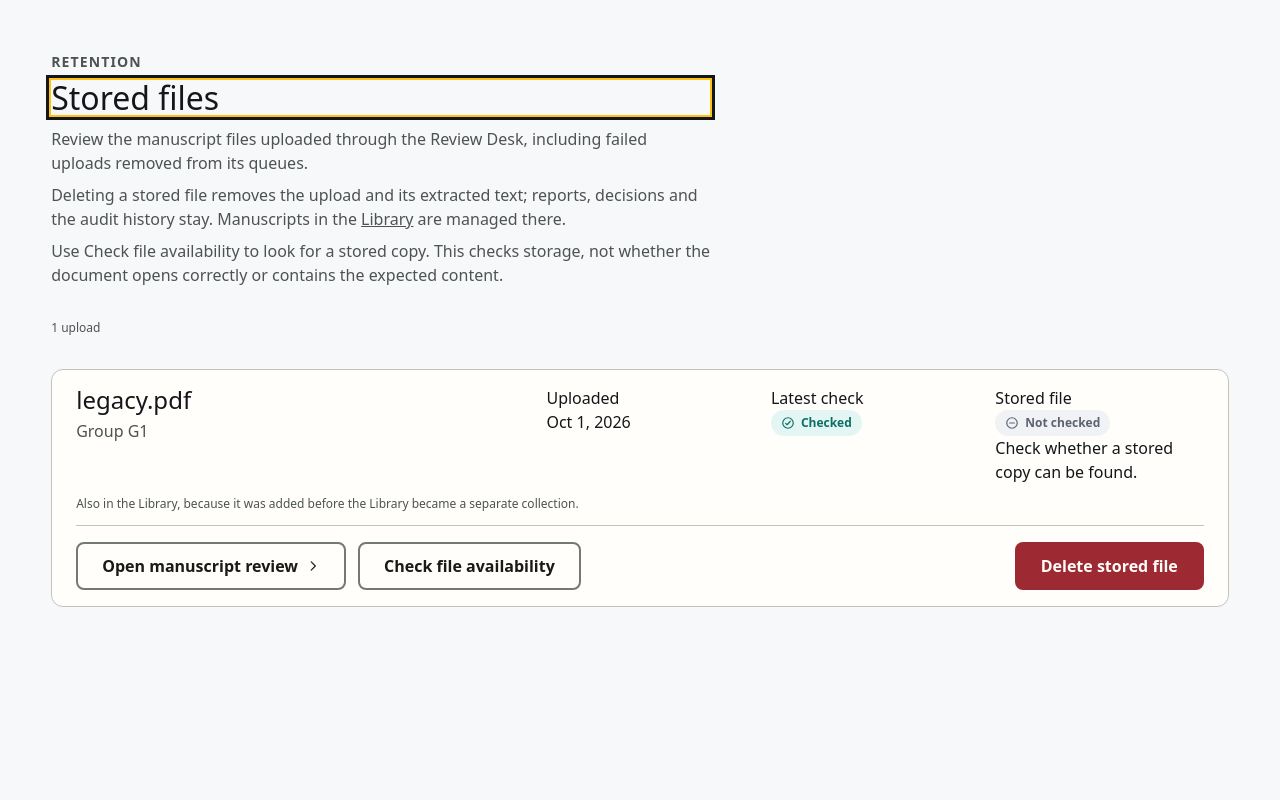
Test: Stored files (V-078) › confirms what is deleted and kept, then announces the result and focuses the row
Click the button "Delete stored file".
click(1109, 566)  # box [1015,542,1204,590]
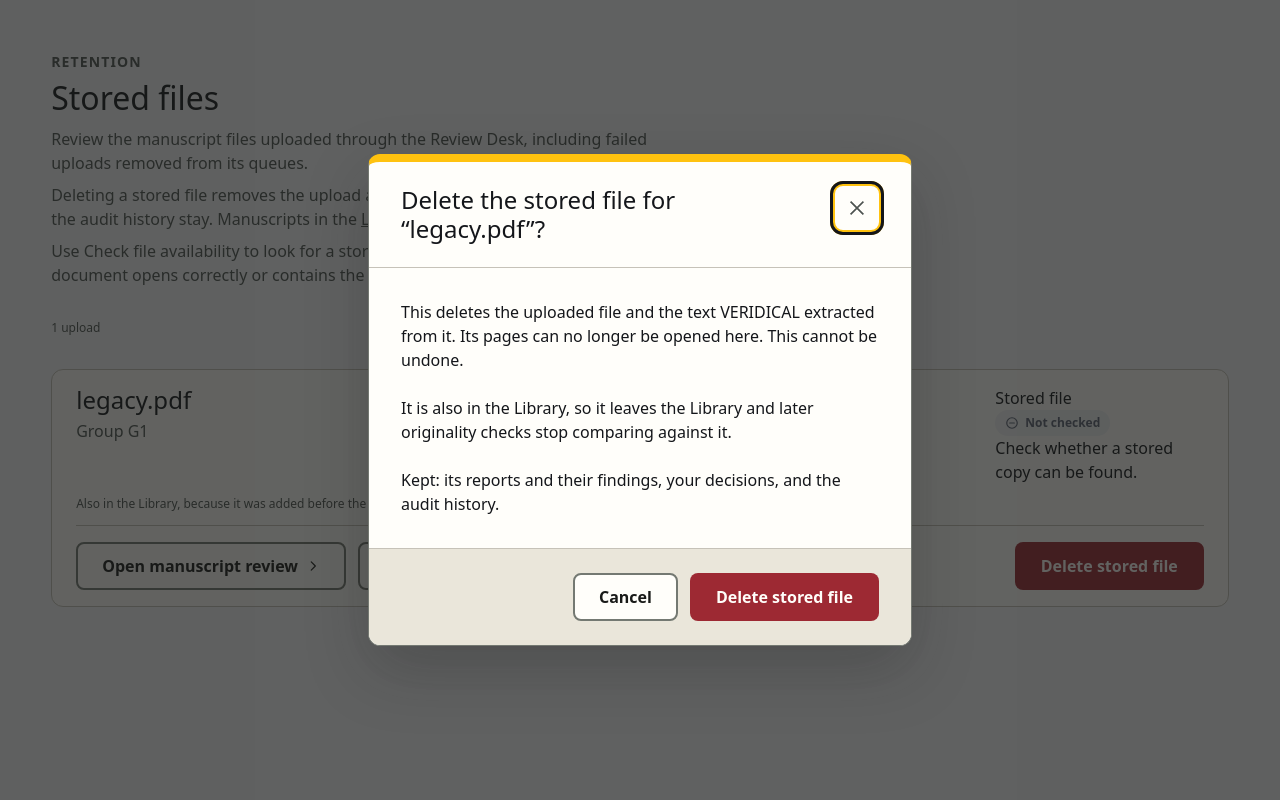
Result: the text "deletes the uploaded file and the text VERIDICAL extracted" is shown at [401,301,877,371]
Result: the text "leaves the Library" is shown at [401,397,814,443]
Result: the text "Kept: its reports and their findings, your decisions, and the audit history." is shown at [401,468,879,516]
Click the button "Delete stored file".
click(784, 597)  # box [690,573,879,621]
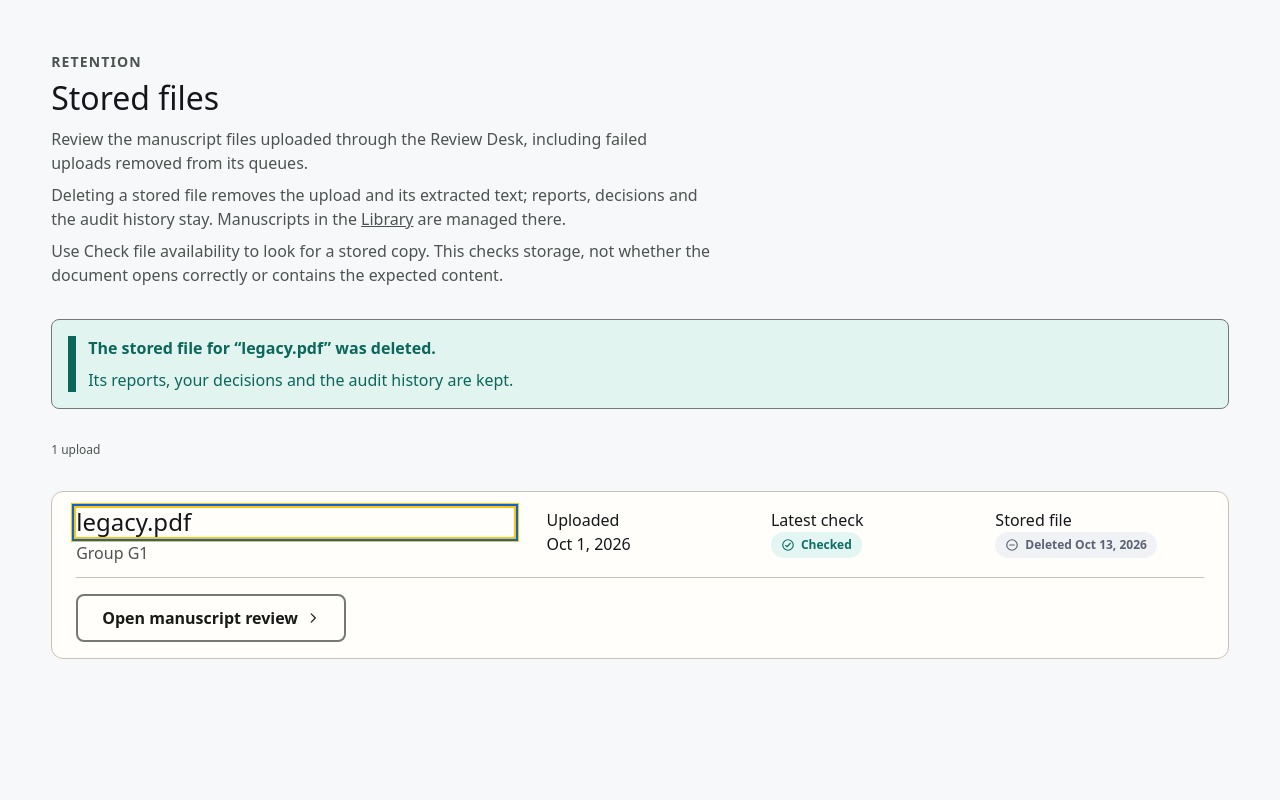
Result: the text "The stored file for “legacy.pdf” was deleted." is shown at [88,337,436,359]
Result: the dialog is gone
Result: the text "Deleted Oct 13, 2026" is shown at [995,532,1157,558]
